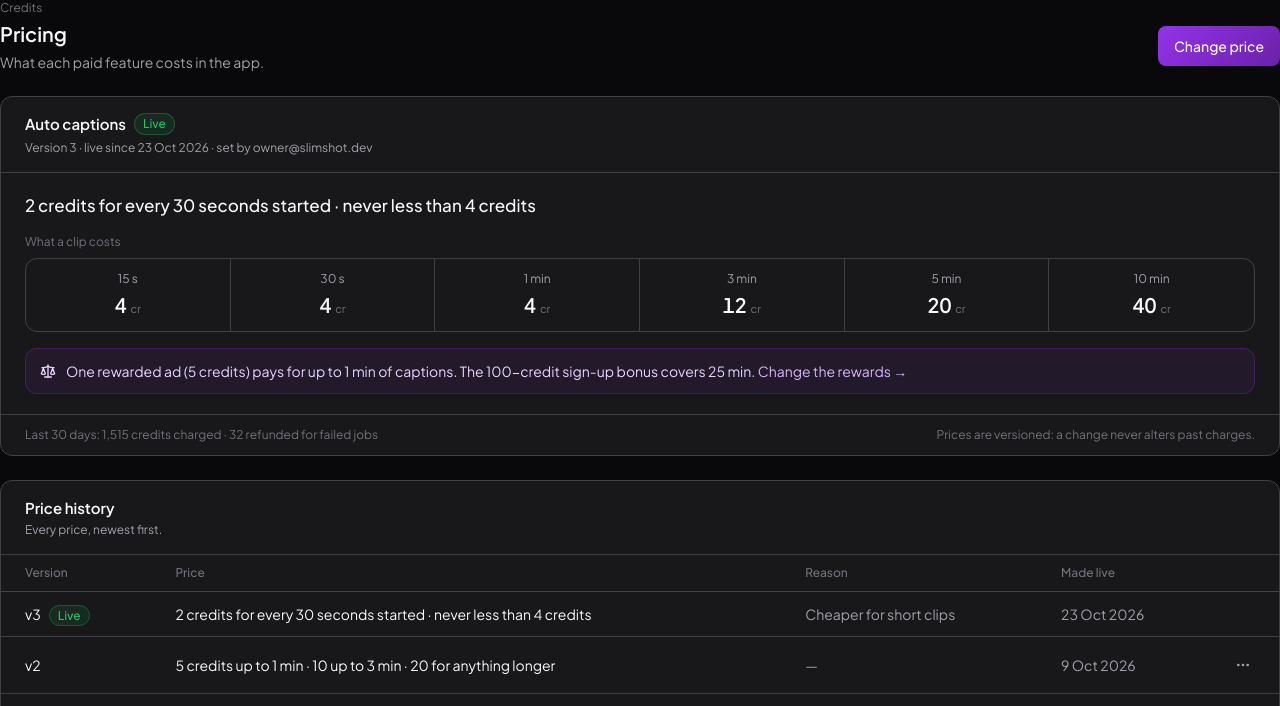
Scenario: PricingPage › starts a new price from a history version
Click the button named "Actions for v2" at (1243, 664), box top-left (1223, 648), bottom-right (1263, 680)
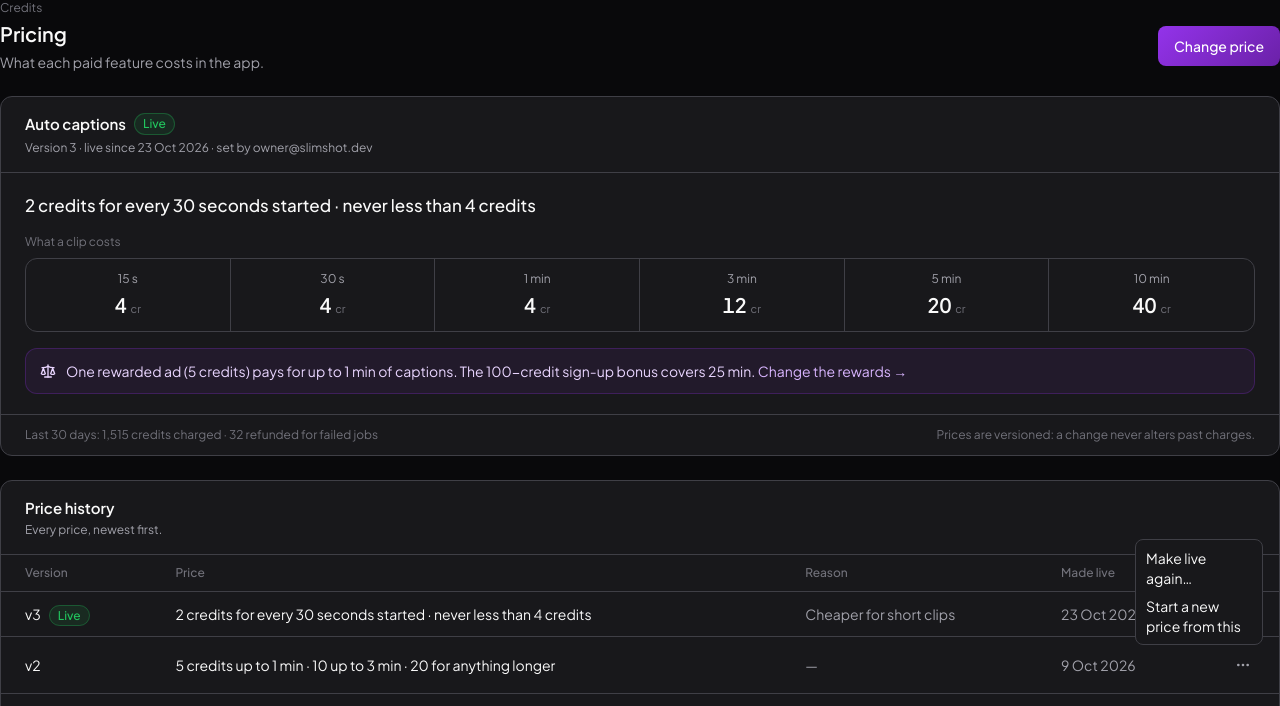
Click the menu item "Start a new price from this" at (1193, 616), box top-left (1146, 597), bottom-right (1241, 635)
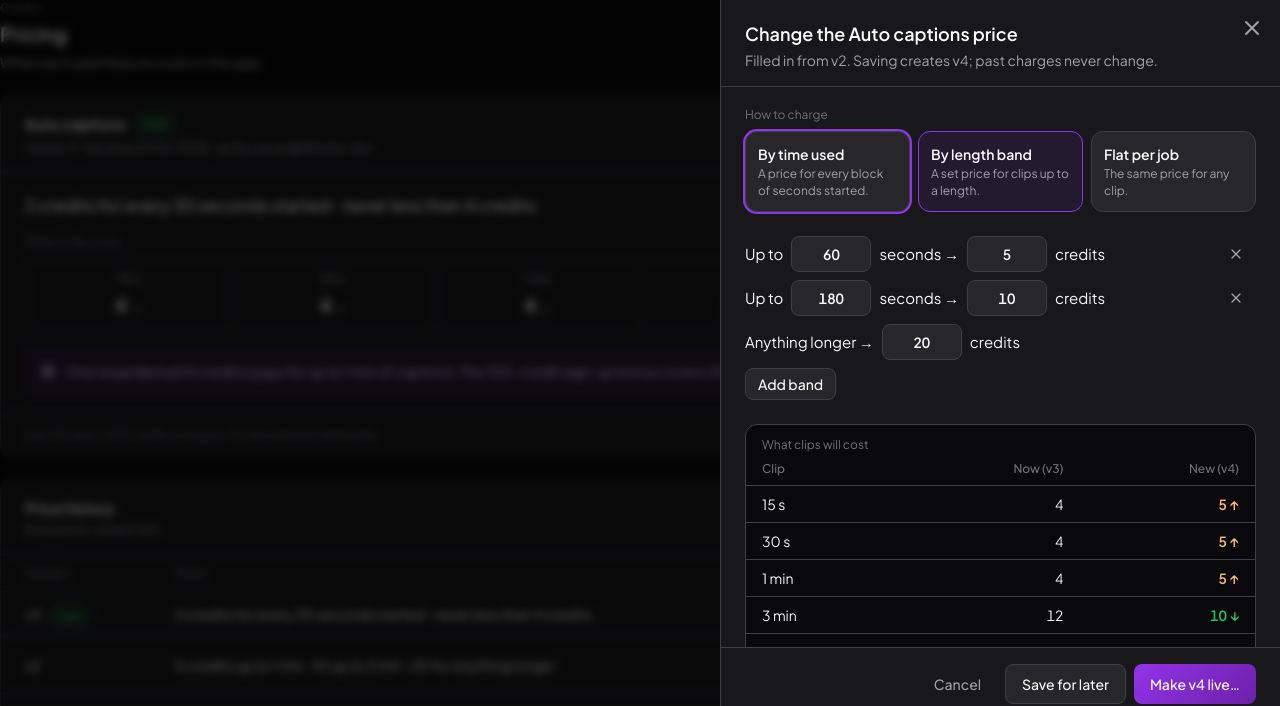
Check: the text "Filled in from v2. Saving creates v4; past charges never change." is shown, box top-left (745, 50), bottom-right (1224, 70)
